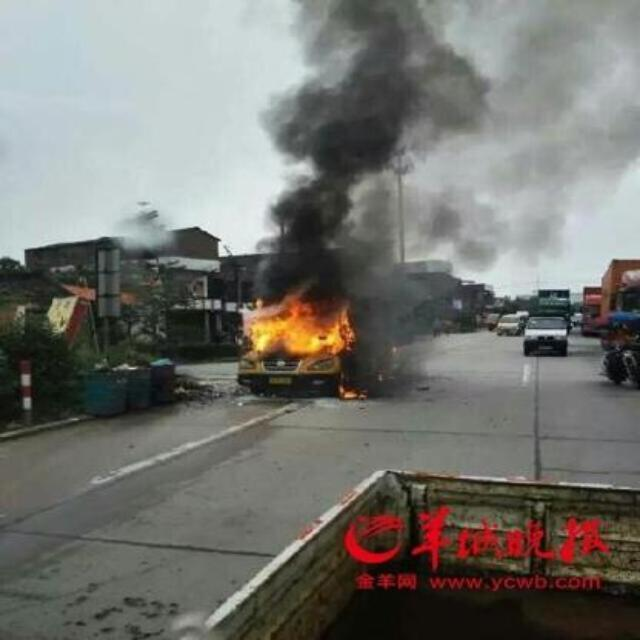Fire: (249, 291, 357, 365)
Smoke: (245, 2, 465, 286)
